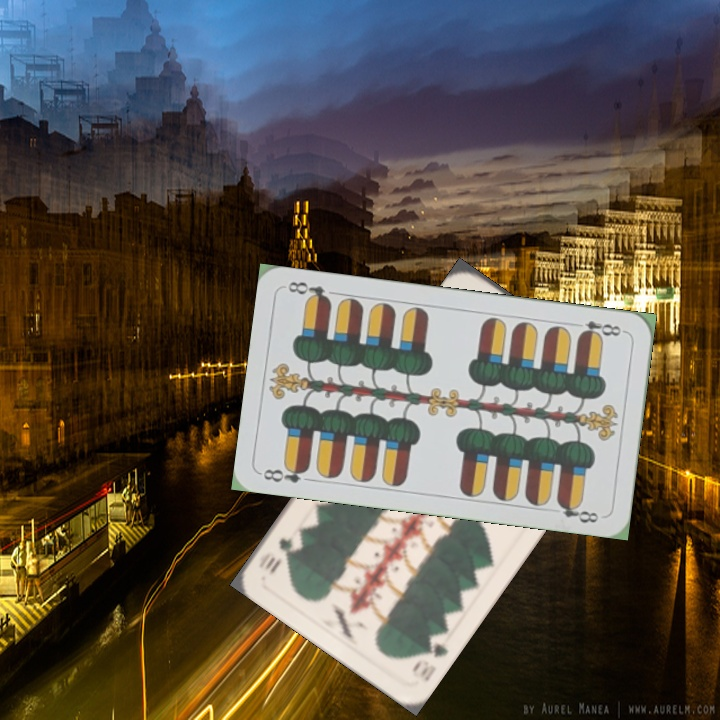E8: (575, 316, 628, 341), (259, 461, 311, 486)
G10: (408, 629, 451, 685)
